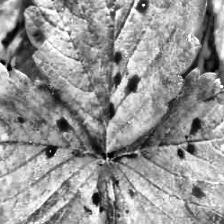Leaf Spot: (22, 0, 208, 159), (0, 59, 115, 224), (108, 66, 224, 224)
